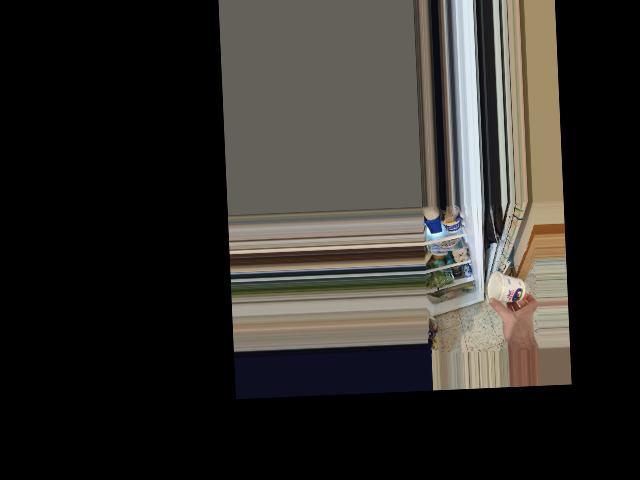cotage: (487, 271, 527, 306)
